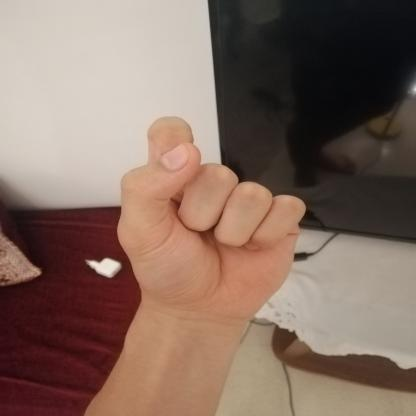FAA: (99, 106, 323, 334)
